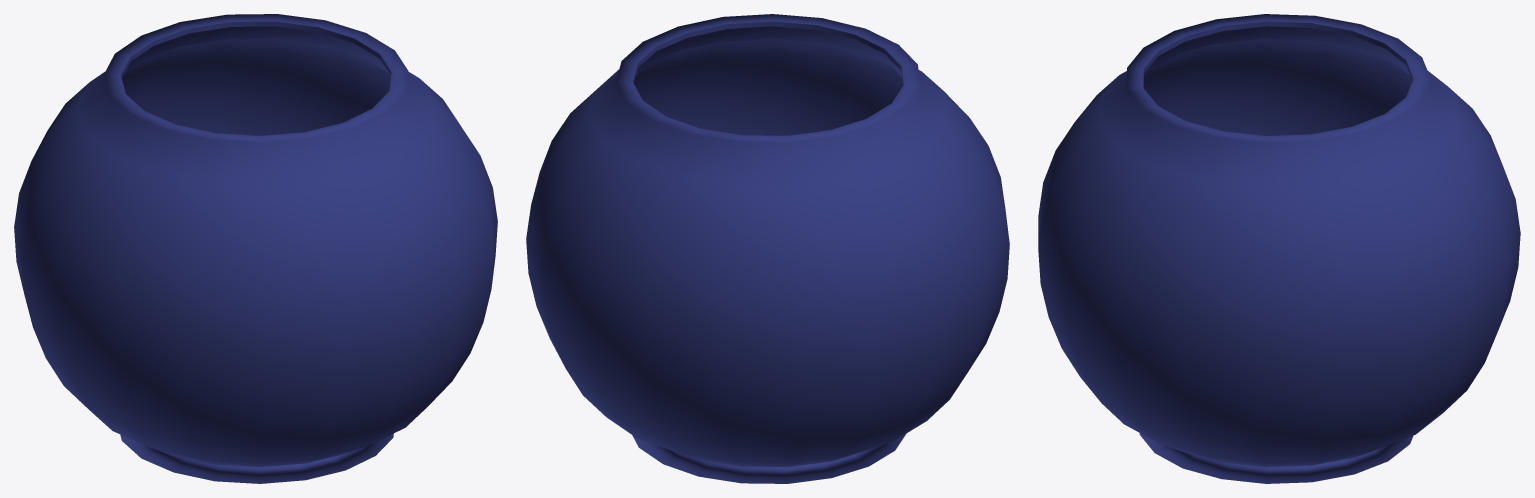
File: NFelsch_GoldfishMesh_Staged_V3.obj
3 renders of one model, left to right at view 1: azimuth 30°, elevation 25°; view 2: azimuth 150°, elevation 25°; view 3: azimuth 270°, elevation 25°, orthographic.
Parts seen in each view (by area): view 1: Bowl; view 2: Bowl; view 3: Bowl.
Boxes of the visible parts, x1=… form: Bowl: x1=14, y1=14, x2=497, y2=483; Bowl: x1=526, y1=14, x2=1009, y2=483; Bowl: x1=1038, y1=14, x2=1520, y2=483.
Size of the model in its own units: 10.93 by 8.68 by 10.89.
